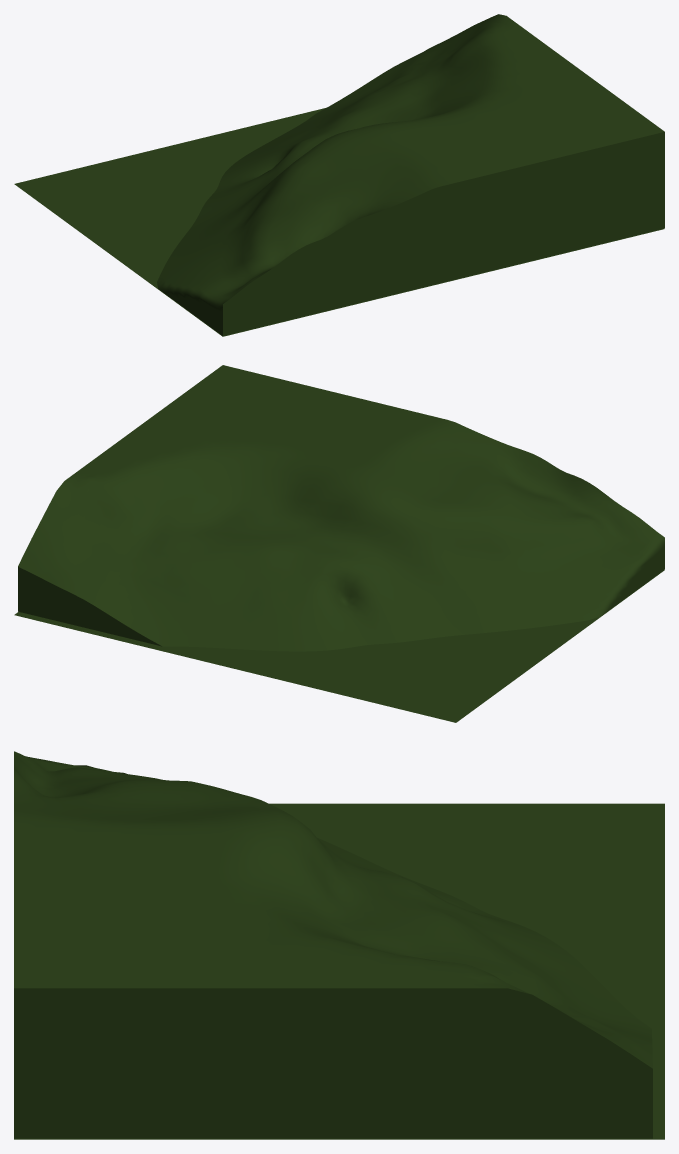
Rendered from landscape.glb.
3 views of the same model, one above another, from view 1: azimuth 30°, elevation 25°; view 2: azimuth 150°, elevation 25°; view 3: azimuth 270°, elevation 25° (orthographic). The views are drawn at different scales.
Parts seen in each view (by area): view 1: test, 平面; view 2: test, 平面; view 3: test, 平面.
Part boxes in pixels (bbox=[...]): test: bbox=[157, 14, 664, 335]; 平面: bbox=[14, 107, 664, 336]; test: bbox=[18, 365, 664, 651]; 平面: bbox=[14, 570, 664, 722]; test: bbox=[14, 751, 652, 1138]; 平面: bbox=[14, 803, 664, 1139].
Size of what is drawn, in the model's own units: 385 by 80.94 by 315.
